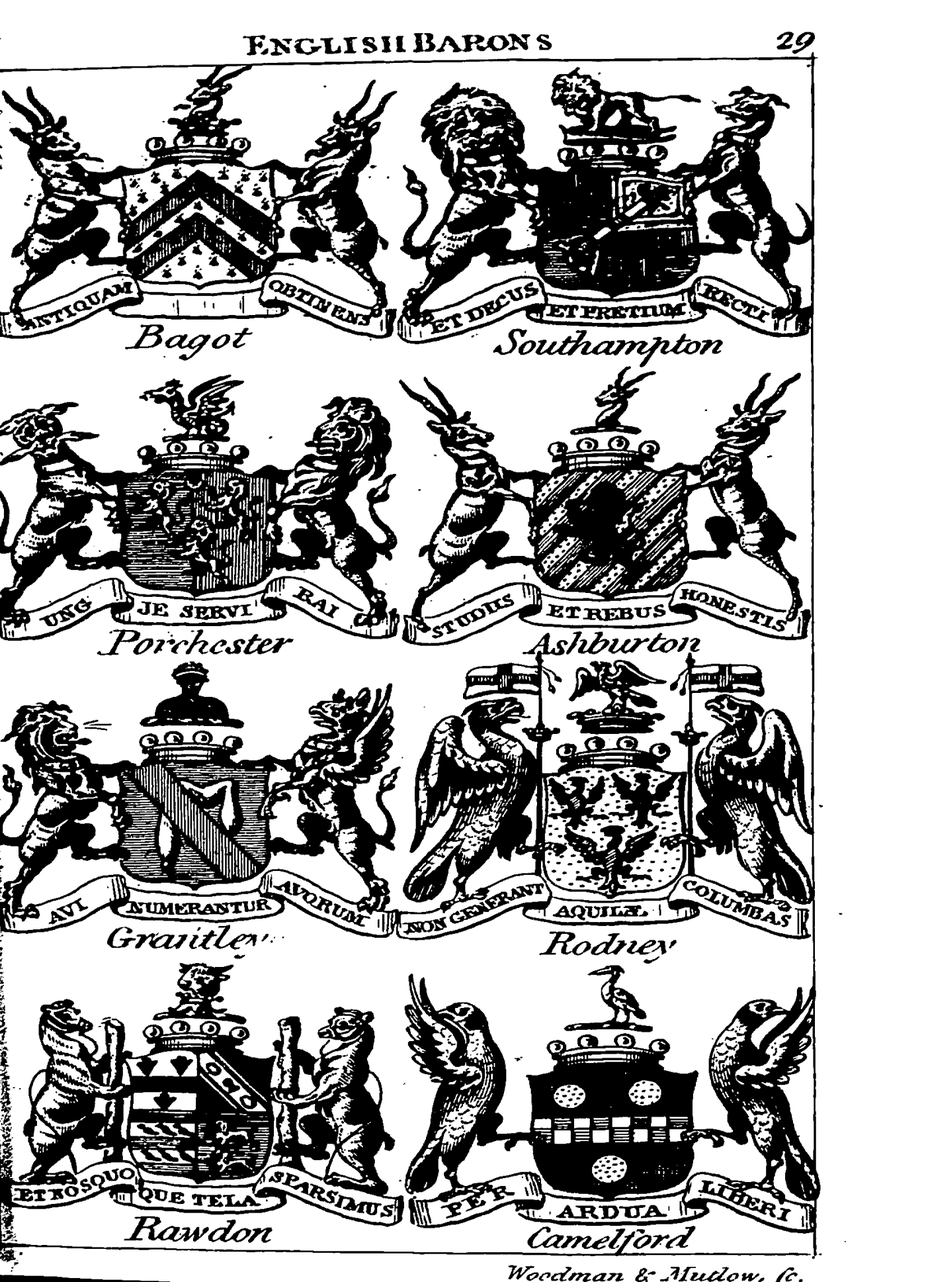coat_of_arms: (1, 653, 394, 973), (394, 68, 811, 369), (401, 656, 809, 963), (399, 967, 825, 1253), (397, 370, 818, 654), (8, 365, 394, 668), (4, 73, 395, 365), (8, 958, 392, 1239)
